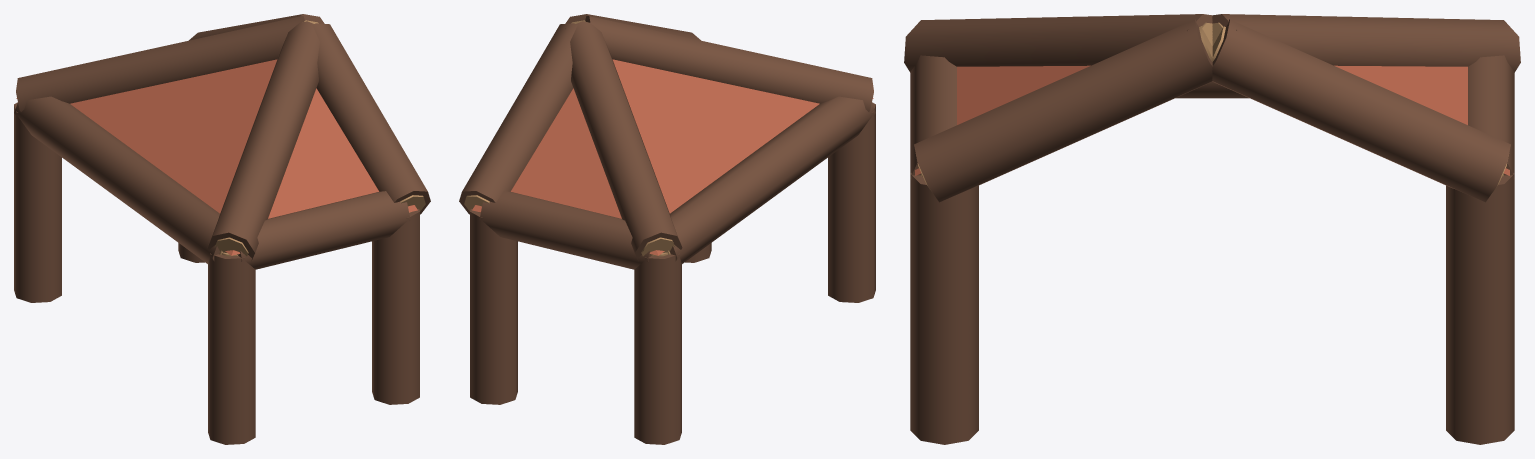
Rendered from hay_barn.glb.
3 views of the same model, side by side, from view 1: azimuth 30°, elevation 25°; view 2: azimuth 150°, elevation 25°; view 3: azimuth 270°, elevation 25° (orthographic). The views are drawn at different scales.
Parts seen in each view (by area): view 1: RoofFace1, OuterRail, HipRafter2, HipRafter1, OuterPostFront, JoinPostFront, OuterPostBack, SeamRafter3, EndRail2, RoofFace2, SeamRafter0; view 2: RoofFace1, OuterRail, HipRafter1, HipRafter2, OuterPostBack, JoinPostBack, OuterPostFront, SeamRafter0, EndRail, RoofFace0, SeamRafter3; view 3: SeamRafter0, SeamRafter3, JoinPostBack, JoinPostFront, HipRafter2, HipRafter1, RoofFace0, RoofFace2, EndRail, EndRail2, OuterRail.
Boxes of the visible parts, left/top/right/bottom form: RoofFace1: left=16, top=59, right=277, bottom=255; OuterRail: left=14, top=96, right=222, bottom=263; HipRafter2: left=207, top=21, right=324, bottom=260; HipRafter1: left=16, top=16, right=304, bottom=111; OuterPostFront: left=208, top=252, right=255, bottom=444; JoinPostFront: left=372, top=209, right=419, bottom=404; OuterPostBack: left=14, top=102, right=61, bottom=302; SeamRafter3: left=312, top=23, right=430, bottom=214; EndRail2: left=236, top=191, right=410, bottom=269; RoofFace2: left=231, top=88, right=417, bottom=255; SeamRafter0: left=189, top=14, right=324, bottom=40; RoofFace1: left=612, top=59, right=873, bottom=255; OuterRail: left=667, top=96, right=875, bottom=263; HipRafter1: left=565, top=21, right=682, bottom=260; HipRafter2: left=585, top=16, right=873, bottom=111; OuterPostBack: left=634, top=252, right=681, bottom=444; JoinPostBack: left=470, top=209, right=517, bottom=404; OuterPostFront: left=828, top=102, right=875, bottom=302; SeamRafter0: left=459, top=23, right=577, bottom=214; EndRail: left=479, top=191, right=653, bottom=269; RoofFace0: left=472, top=88, right=658, bottom=255; SeamRafter3: left=565, top=14, right=700, bottom=40; SeamRafter0: left=1212, top=19, right=1510, bottom=202; SeamRafter3: left=914, top=19, right=1212, bottom=202; JoinPostBack: left=1446, top=173, right=1514, bottom=444; JoinPostFront: left=910, top=173, right=978, bottom=444; HipRafter2: left=904, top=14, right=1212, bottom=72; HipRafter1: left=1212, top=14, right=1520, bottom=72; RoofFace0: left=1334, top=65, right=1509, bottom=175; RoofFace2: left=915, top=65, right=1090, bottom=175; EndRail: left=1468, top=55, right=1514, bottom=179; EndRail2: left=910, top=55, right=956, bottom=179; OuterRail: left=1175, top=82, right=1249, bottom=98.
Size of the model in its own units: 1.17 by 1.57 by 2.07.
